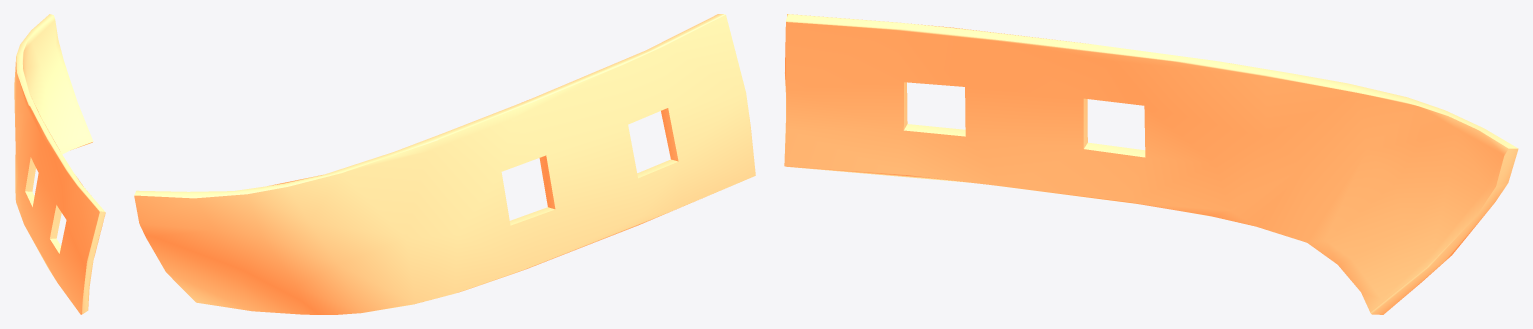
File: SM_Wall_CannonBow01.fbx
3 views of the same model, side by side, from view 1: azimuth 30°, elevation 25°; view 2: azimuth 150°, elevation 25°; view 3: azimuth 270°, elevation 25° (orthographic). The views are drawn at different scales.
Visible parts, largest first — view 1: SM_Wall_CannonBow01_LOD0; view 2: SM_Wall_CannonBow01_LOD0; view 3: SM_Wall_CannonBow01_LOD0.
Boxes of the visible parts, x1,y1,x2,y2 form: SM_Wall_CannonBow01_LOD0: (14, 14, 105, 314); SM_Wall_CannonBow01_LOD0: (134, 14, 755, 314); SM_Wall_CannonBow01_LOD0: (784, 14, 1518, 314).
Bounding box in the file's own units: 590 × 1186 × 305.
